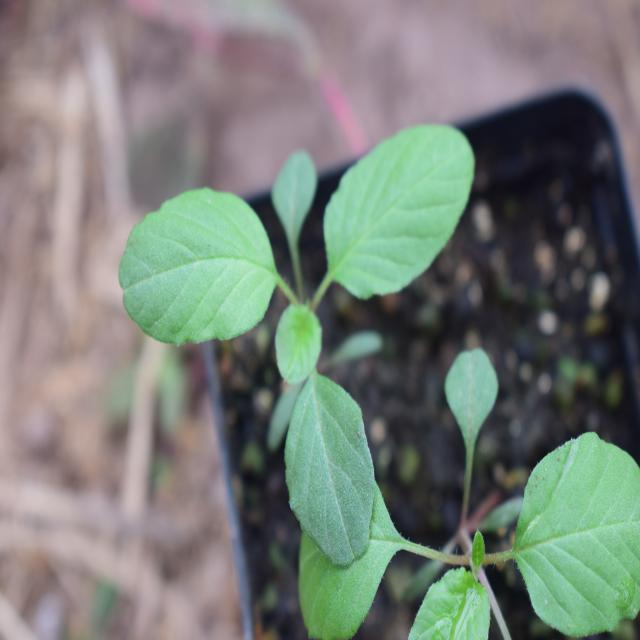pigweed: (152, 108, 483, 542)
